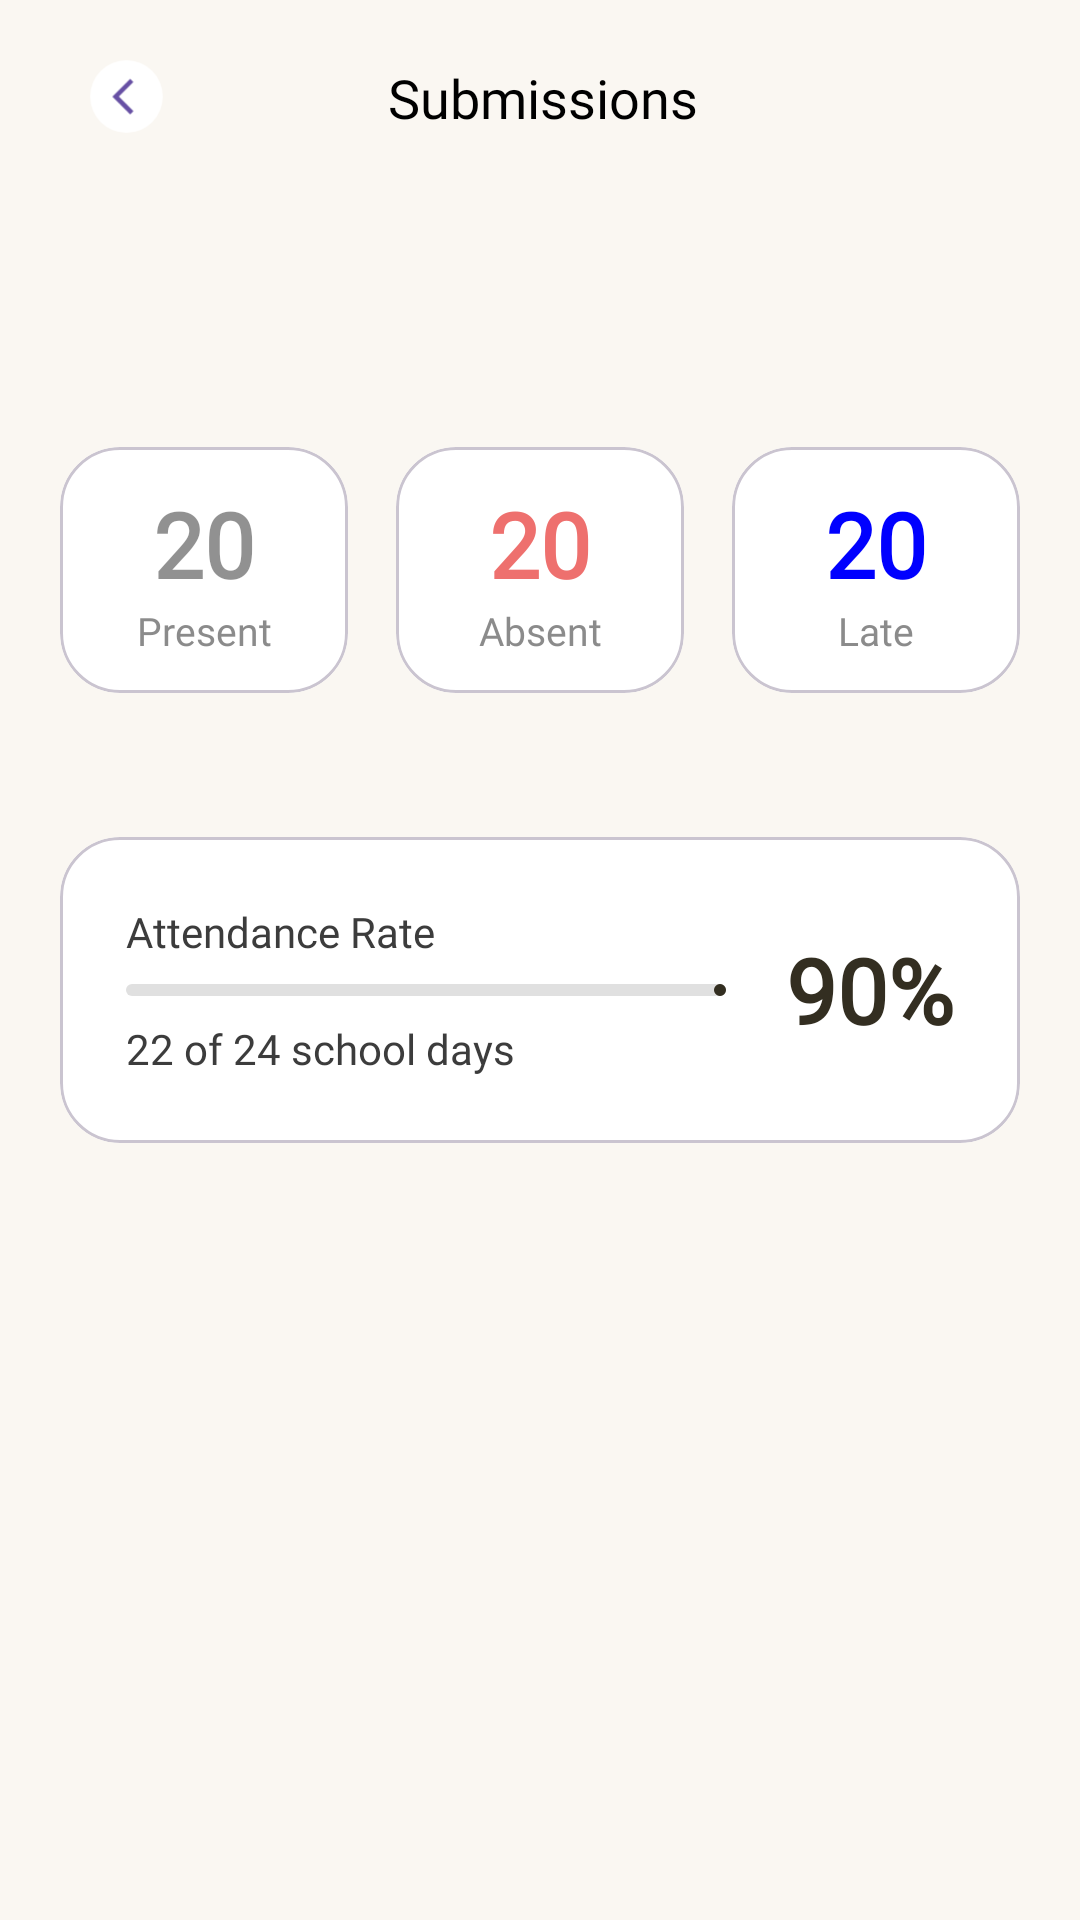

Where to tap for icons on this 1080 x 1920 app screen, as (x=x, y=y):
back: (x=126, y=96)
